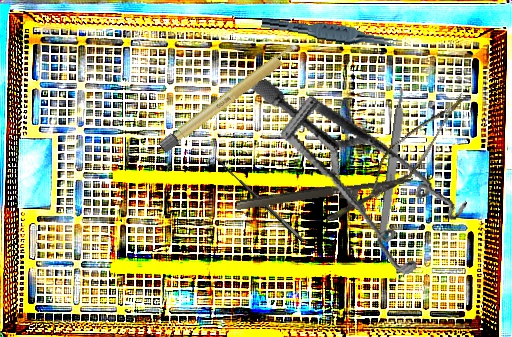Hook Surgical: (205, 152, 307, 250)
Micro Scissor: (362, 73, 470, 213)
Needle Holder: (235, 174, 418, 234)
Scalpel Handle: (158, 39, 303, 155), (376, 87, 410, 246)
Speculum: (248, 37, 481, 301)
Tissue Forceps: (260, 16, 403, 51)
